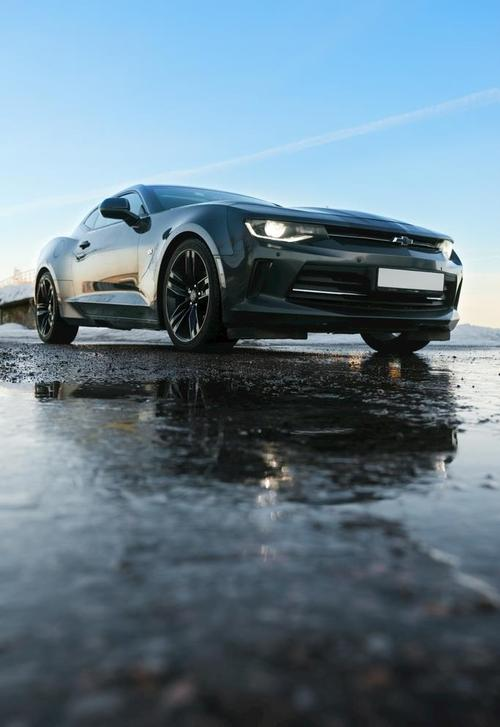汽车: (26, 163, 487, 349)
